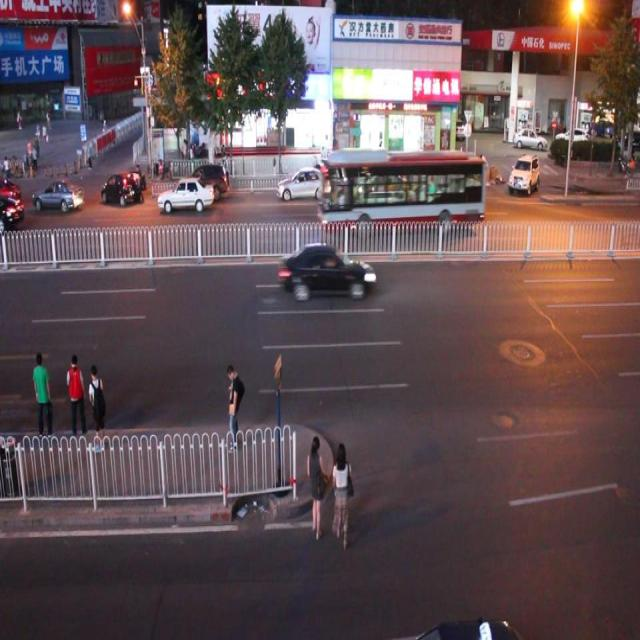car: (279, 244, 373, 301), (277, 164, 329, 202), (158, 177, 213, 211), (180, 160, 228, 198), (34, 177, 84, 210), (360, 171, 408, 205), (102, 170, 139, 205), (507, 156, 538, 190), (1, 191, 24, 232), (1, 175, 20, 211)
van: (316, 151, 486, 231)
